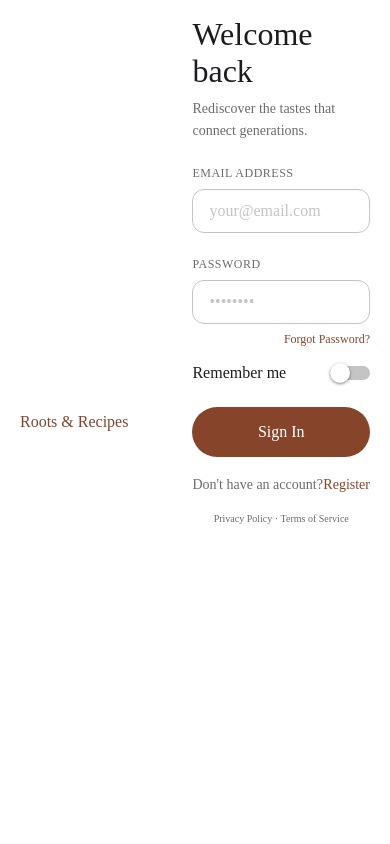
LoginScreen › forgot password › shows the reset modal when Forgot Password? is pressed
This screenshot has width=390, height=844.
Click the text "Forgot Password?" at (327, 340), box [284,332,370,347]
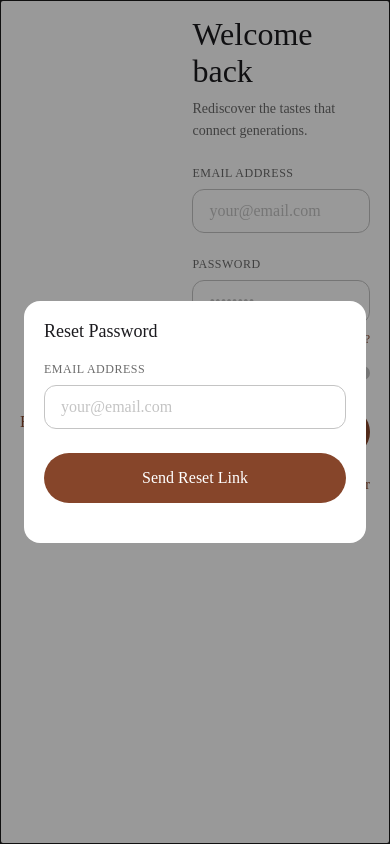
Result: the text "Reset Password" is shown at [44,321,158,341]
Result: the text "Send Reset Link" is shown at [142,469,248,487]
